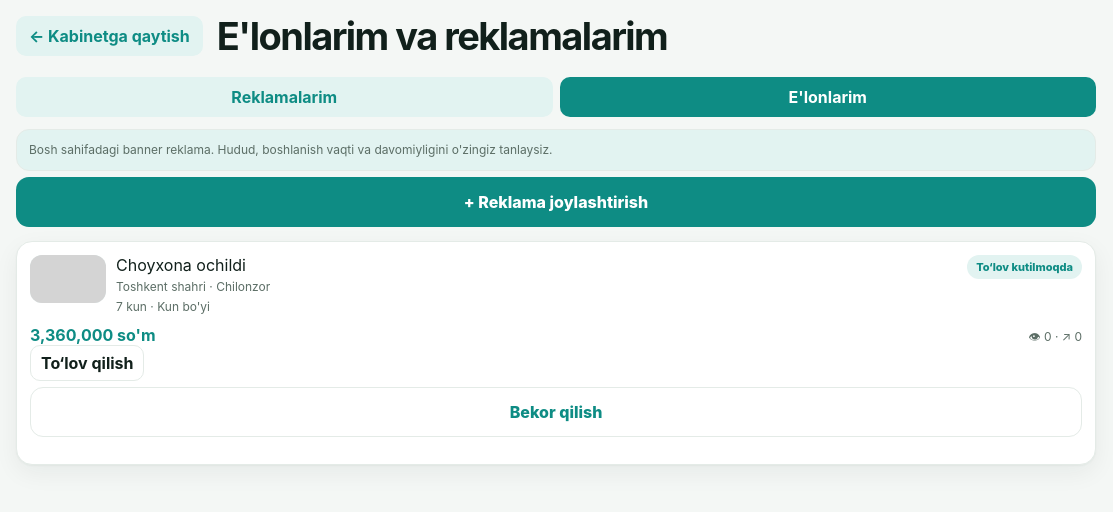
to'lov katalogi obuna ekranidan tashqarida ham yuklanadi › katalog yuklanmasa sabab ko'rsatiladi, jim turmaydi
Click the button "To‘lov qilish" at (87, 363), box [30,345,144,381]
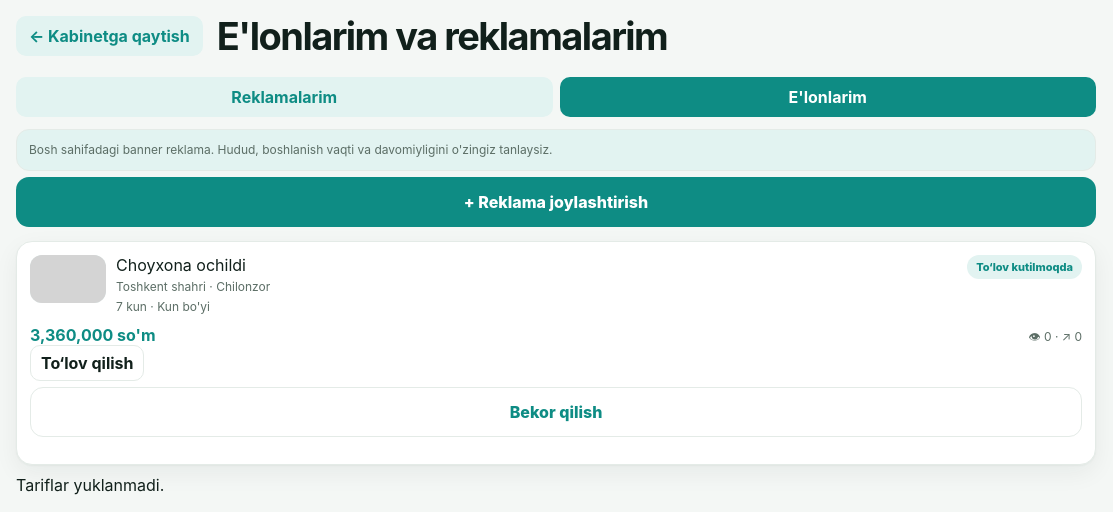
expect the text "Tariflar yuklanmadi." is shown: met, box [16,475,164,495]
